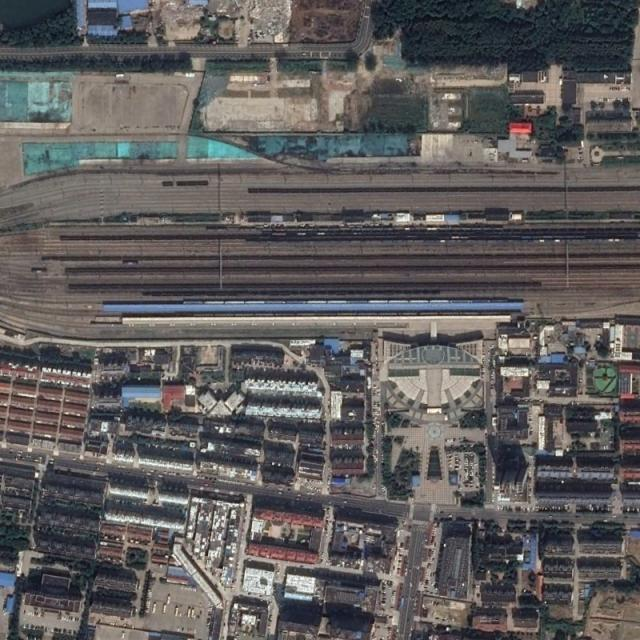vehicle: (174, 607, 179, 617), (152, 603, 156, 614), (187, 608, 191, 618), (162, 605, 166, 614), (167, 595, 170, 605), (191, 609, 194, 618)
